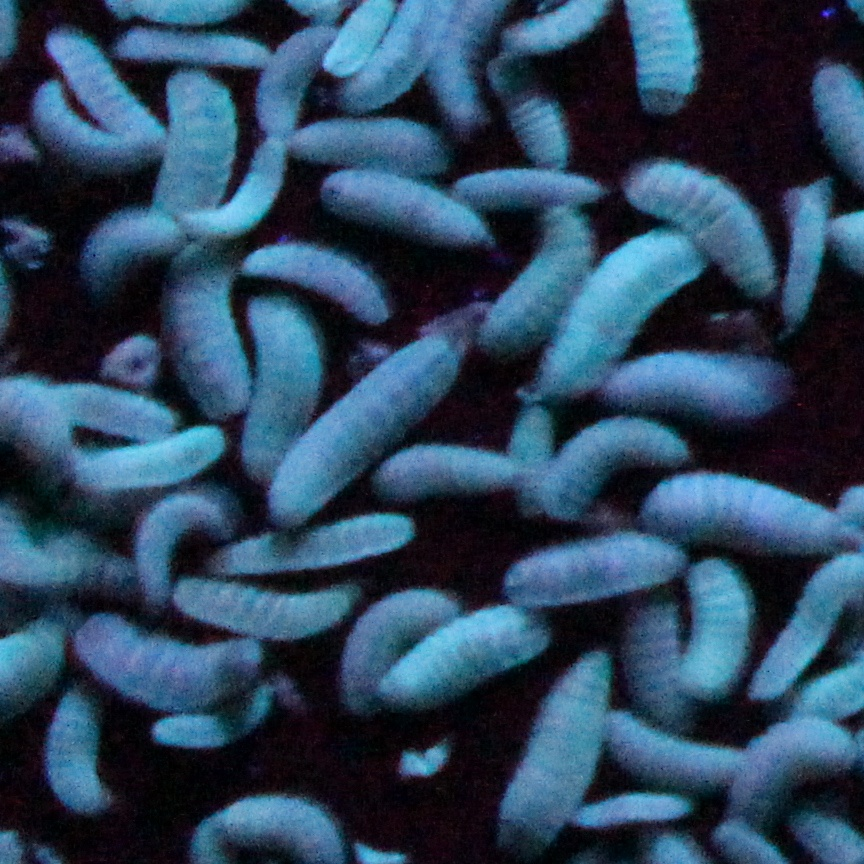larve: (268, 306, 483, 534), (534, 227, 708, 398), (487, 647, 613, 862), (626, 160, 777, 301), (376, 601, 552, 715), (472, 202, 595, 361), (72, 606, 262, 707), (140, 68, 239, 256), (162, 224, 255, 422), (597, 344, 802, 433), (502, 530, 705, 618), (342, 590, 476, 721), (238, 288, 326, 484), (543, 412, 695, 518), (199, 514, 426, 584), (45, 25, 169, 150), (319, 168, 494, 254), (729, 716, 862, 825), (133, 486, 232, 630), (237, 240, 398, 327), (596, 706, 753, 792), (63, 421, 228, 500), (30, 81, 168, 174), (675, 555, 756, 706), (175, 137, 290, 240), (72, 207, 188, 307), (172, 580, 358, 640), (372, 436, 523, 505), (283, 112, 452, 172), (149, 683, 282, 756), (486, 53, 567, 172), (38, 518, 150, 603), (47, 377, 180, 448), (252, 23, 328, 143), (45, 687, 115, 814), (626, 595, 690, 733), (774, 180, 830, 328), (1, 606, 68, 726), (113, 28, 273, 74), (448, 167, 612, 211), (1, 504, 82, 590), (1, 375, 72, 462), (510, 402, 555, 523), (574, 790, 697, 833)
